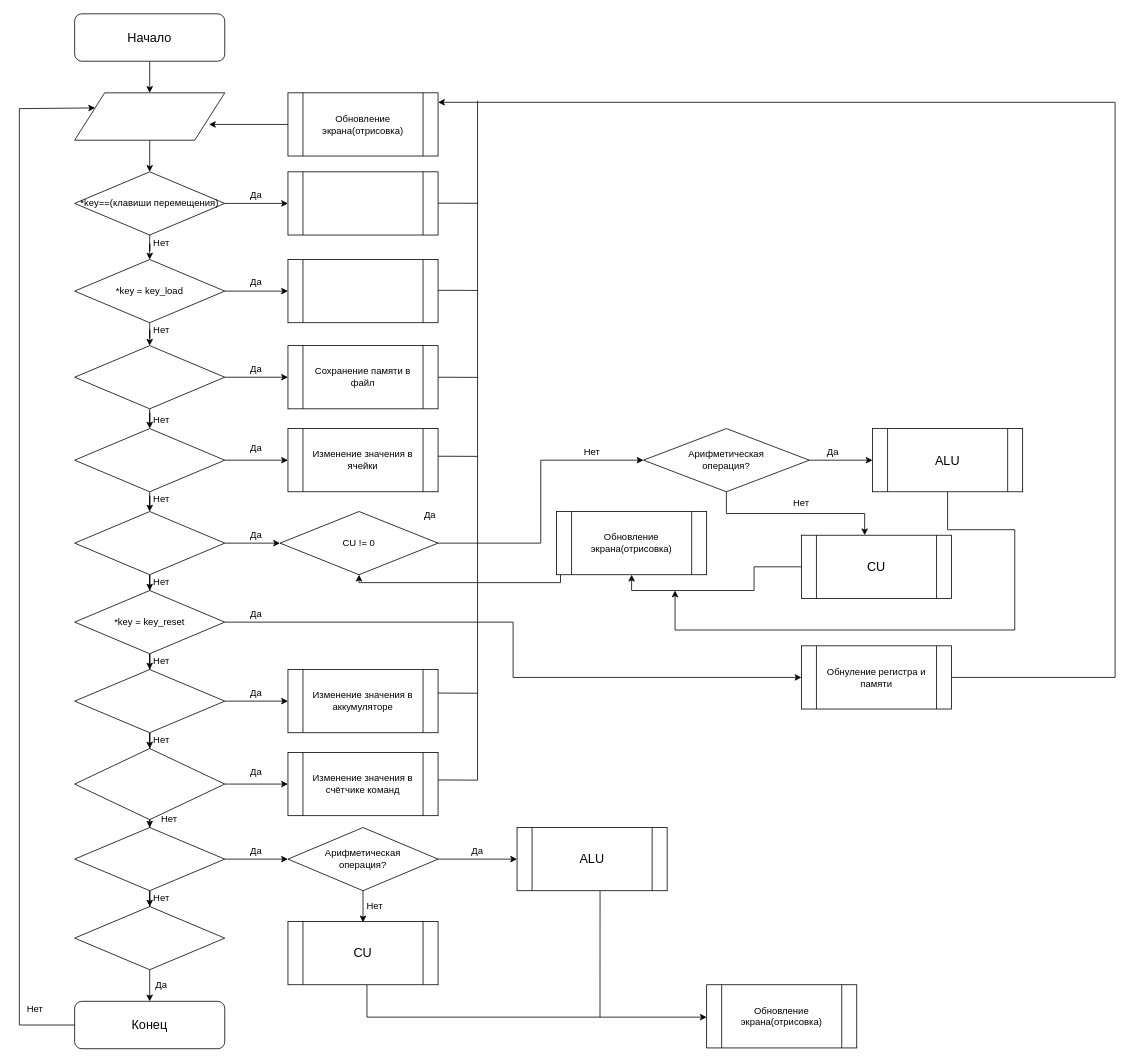
This 1135x1063 diagram has some shape labels left out. Each missing label, with the box of its shape:
*key = key_accumulator: (74, 669, 225, 733)
*key = key_enter: (74, 428, 225, 492)
*key = key_instructionCounter: (74, 748, 225, 820)
*key = key_quit: (74, 906, 225, 970)
*key = key_run: (74, 511, 225, 575)
*key = key_save: (74, 345, 225, 409)
*key = key_step: (74, 827, 225, 891)
rk_readkey(&key): (74, 92, 225, 140)
Загрузка памяти из файла: (287, 259, 438, 323)
Перемещение по ячейкам памяти: (287, 171, 438, 235)
